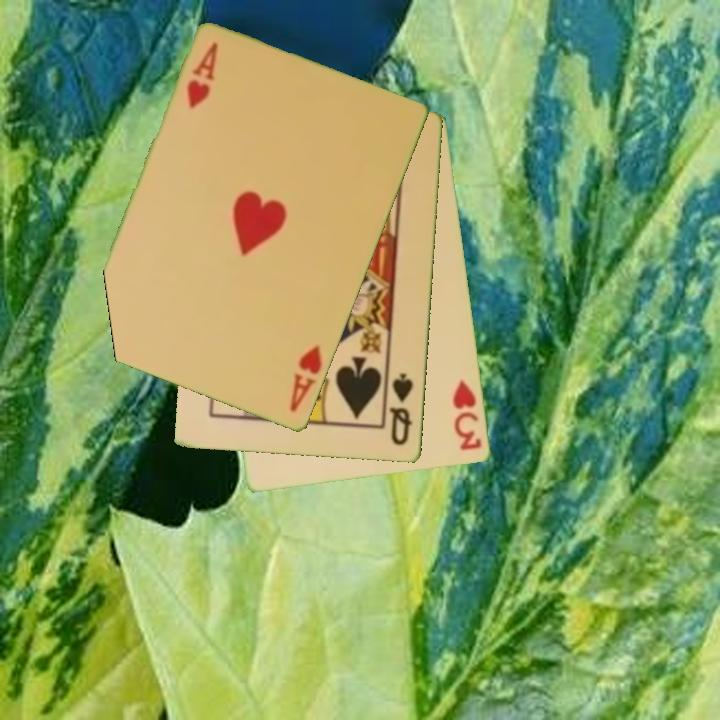3h: (450, 377, 485, 454)
Ah: (286, 343, 326, 416), (183, 39, 222, 112)
Qs: (387, 369, 416, 449)
